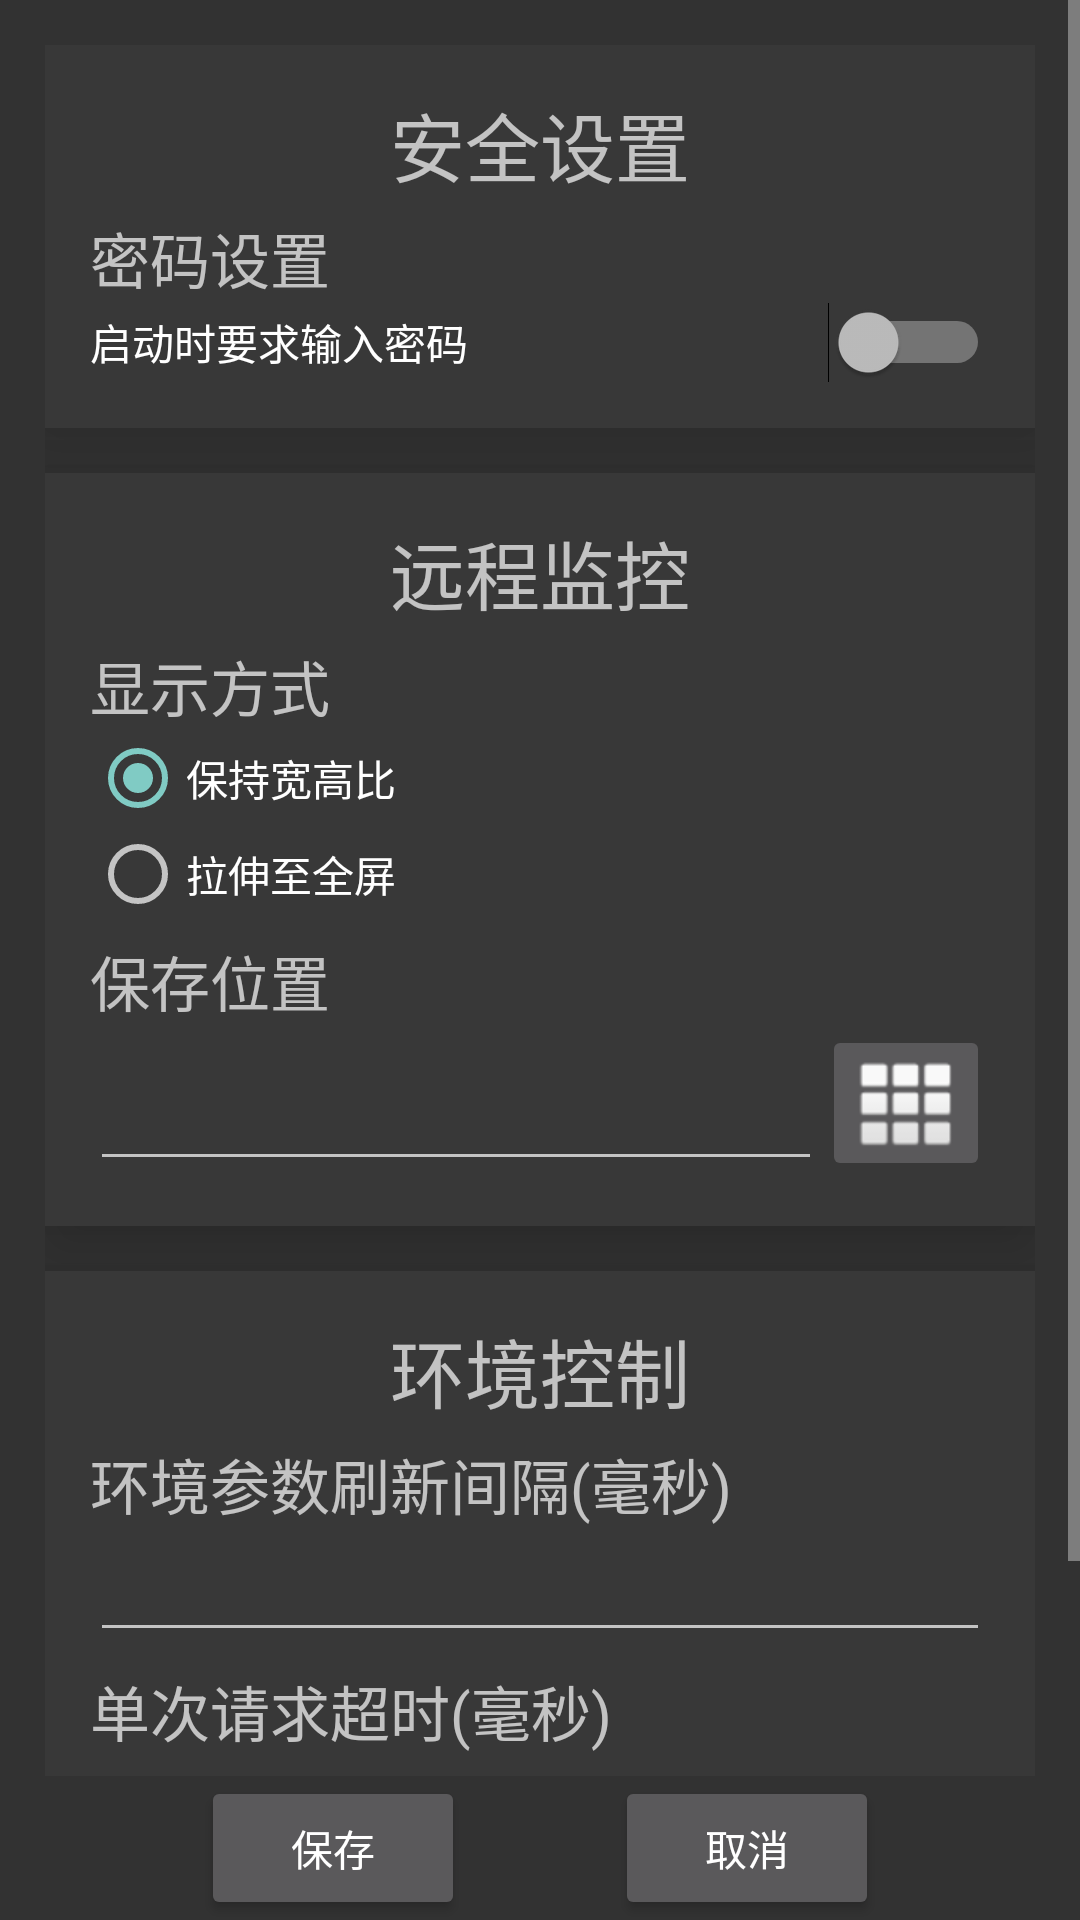

Locate icon controls on the screen. Image size 1080 x 1920, boxes as (x1, y1, x2, y2).
dialer: (834, 1043, 978, 1163)
